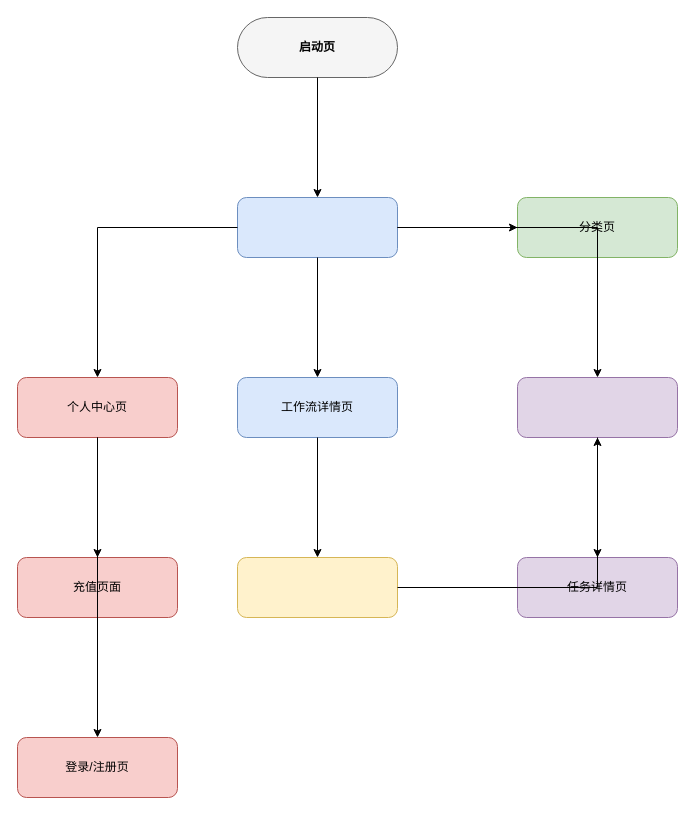
Image size: 695x815. Some labels were removed from this diagram. The centre of each missing label's shape, as x and y in pixels:
"任务中心页" goes at (x=597, y=407).
"参数输入页" goes at (x=317, y=587).
"首页" goes at (x=317, y=227).
